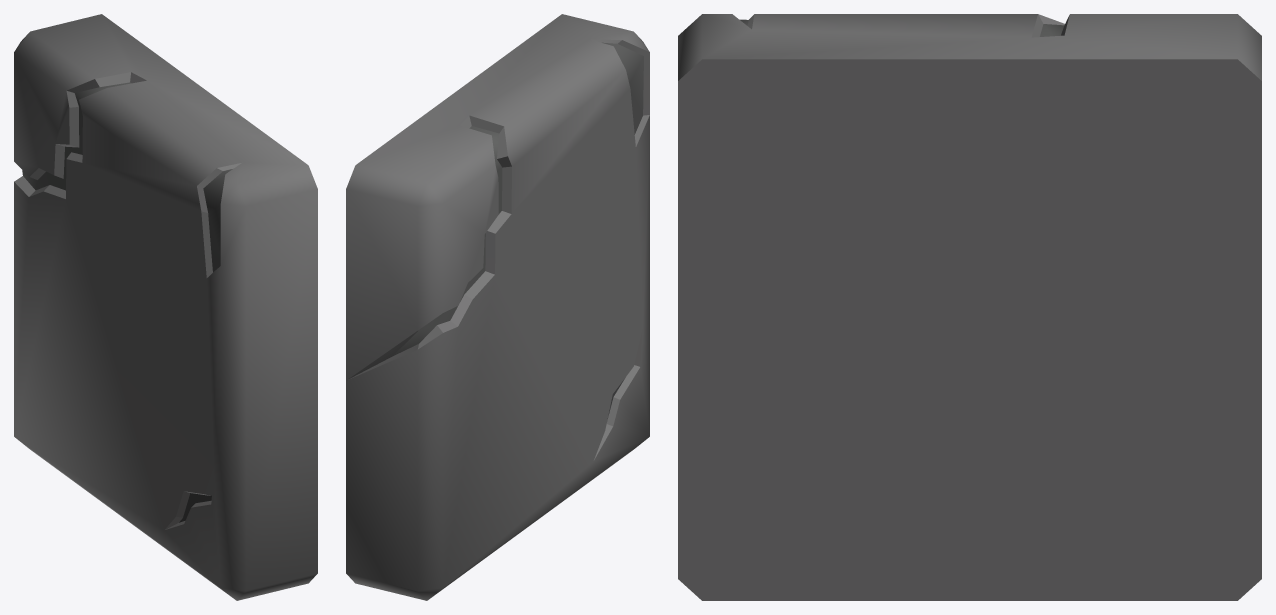
File: Table_1_3.obj
The picture shows the model from 3 angles, left to right: view 1: azimuth 30°, elevation 25°; view 2: azimuth 150°, elevation 25°; view 3: azimuth 270°, elevation 25°; orthographic projection. The views are drawn at different scales.
Parts seen in each view (by area): view 1: Table_1_3; view 2: Table_1_3; view 3: Table_1_3.
Boxes of the visible parts, <box> form: Table_1_3: <box>14,14,317,600</box>; Table_1_3: <box>346,14,649,600</box>; Table_1_3: <box>678,14,1261,600</box>.
Bounding box in the file's own units: 0.0894 × 0.4067 × 0.3972.
